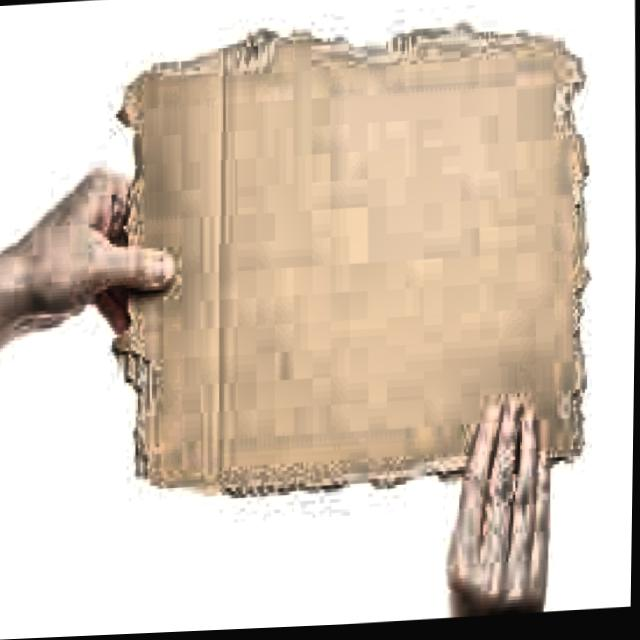Cardbox: (90, 0, 605, 527)
